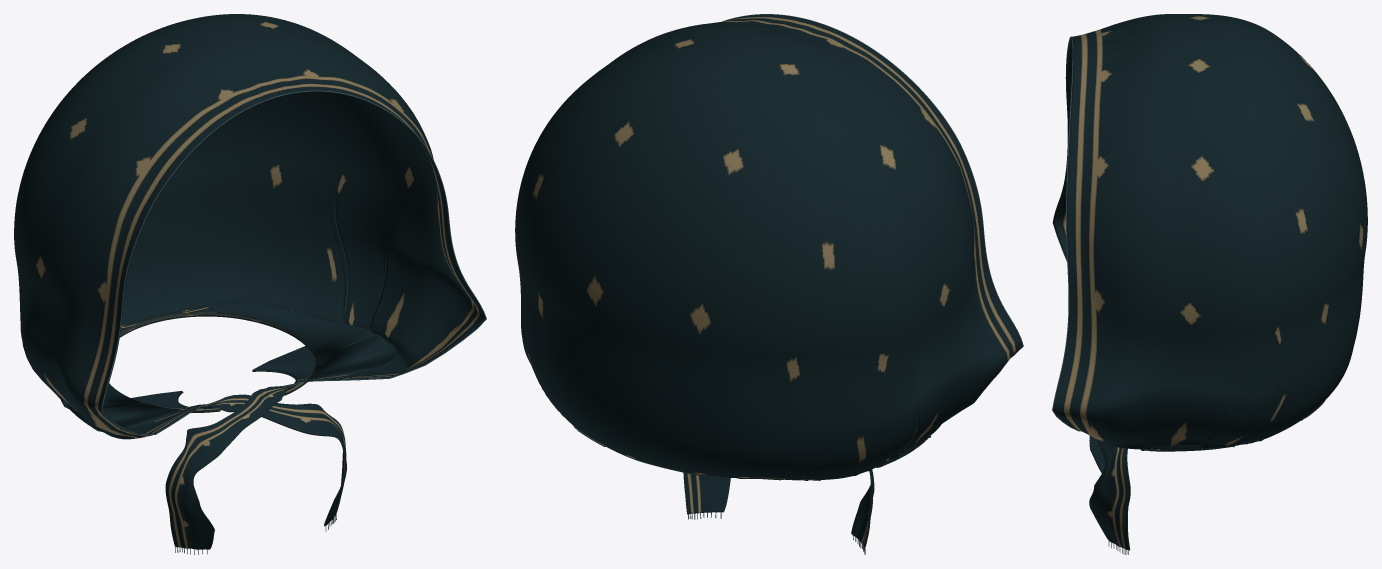
The model's file is Feminine-box-braids-triangle-pashmina250-headgear.glb.
The picture shows the model from 3 angles, left to right: view 1: azimuth 30°, elevation 25°; view 2: azimuth 150°, elevation 25°; view 3: azimuth 270°, elevation 25°; orthographic projection. The views are drawn at different scales.
Visible parts, largest first — view 1: 226 headgear / Headwear / continuous woven pashmina239, 226 headgear / Headwear / face edge239; view 2: 226 headgear / Headwear / continuous woven pashmina239, 226 headgear / Headwear / face edge239; view 3: 226 headgear / Headwear / continuous woven pashmina239, 226 headgear / Headwear / face edge239.
Boxes of the visible parts, x1,y1,x2,y2 form: 226 headgear / Headwear / continuous woven pashmina239: [14, 14, 485, 549]; 226 headgear / Headwear / face edge239: [101, 90, 486, 435]; 226 headgear / Headwear / continuous woven pashmina239: [515, 14, 1022, 548]; 226 headgear / Headwear / face edge239: [722, 14, 1023, 357]; 226 headgear / Headwear / continuous woven pashmina239: [1053, 14, 1367, 550]; 226 headgear / Headwear / face edge239: [1052, 36, 1080, 431].
Bounding box in the file's own units: 1.19 × 1.4 × 0.8332.
Materials: 3 (1 with a texture image).
